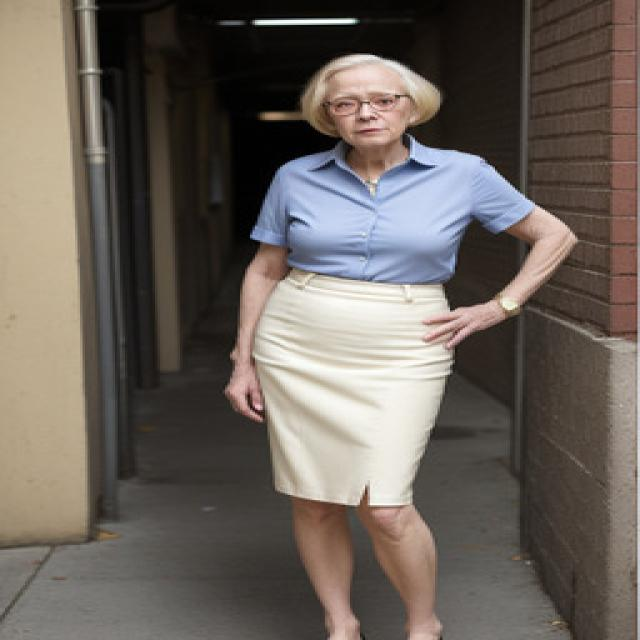Ai human 2: (209, 36, 585, 640)
